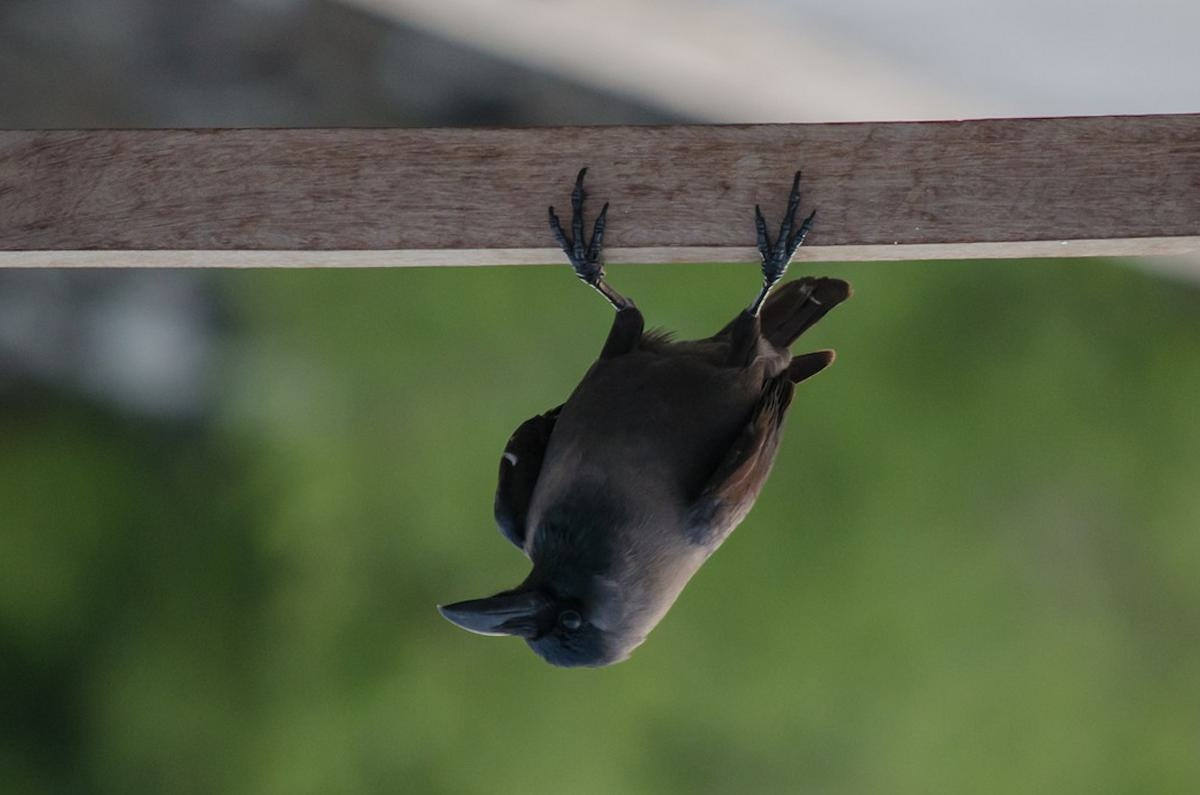crow: (431, 170, 848, 677)
